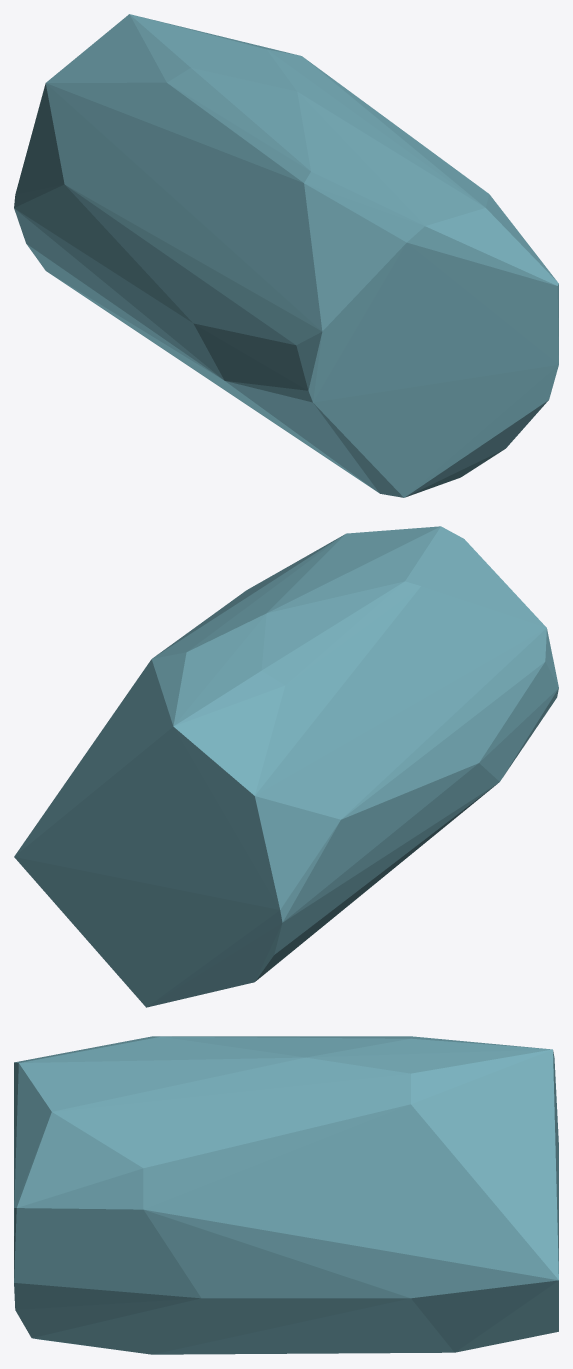
File: container_jar_glass_red_a01.glb
3 renders of one model, top to bottom at view 1: azimuth 30°, elevation 25°; view 2: azimuth 150°, elevation 25°; view 3: azimuth 270°, elevation 25°, orthographic. The views are drawn at different scales.
Visible parts, largest first — view 1: geometry_0; view 2: geometry_0; view 3: geometry_0.
Boxes of the visible parts, x1,y1,x2,y2 form: geometry_0: (14,14,558,497); geometry_0: (14,526,558,1007); geometry_0: (14,1036,558,1354).
Bounding box in the file's own units: 0.2761 × 0.2807 × 0.4797.
